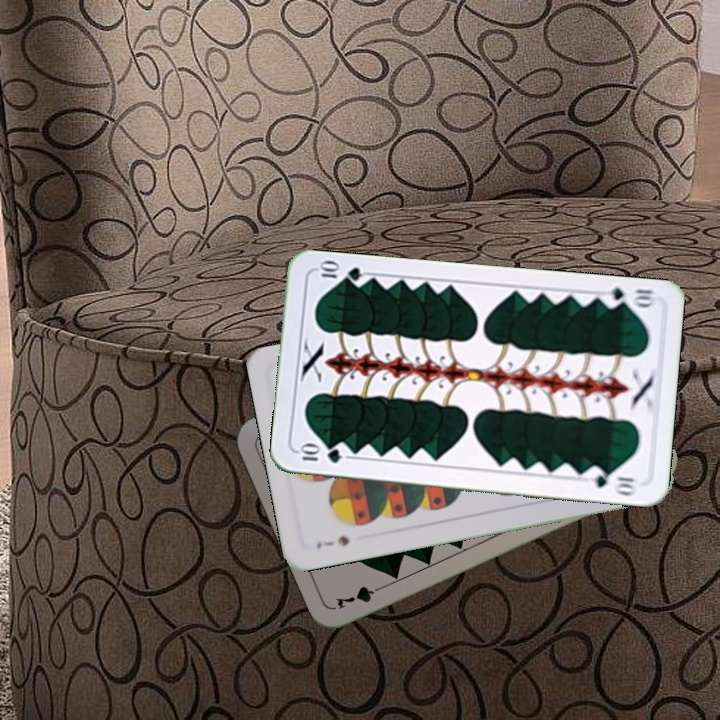G10: (598, 283, 658, 311), (295, 442, 344, 466)
G7: (332, 580, 390, 612)
S7: (312, 531, 352, 552)
